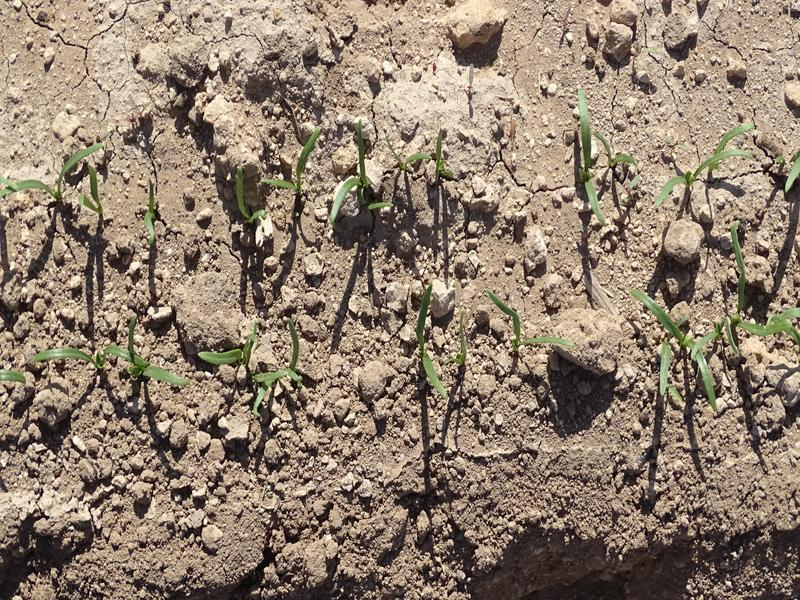Espinaca: (625, 286, 800, 406), (327, 125, 448, 223), (36, 321, 183, 391), (233, 130, 323, 220), (658, 127, 756, 207), (576, 93, 633, 229), (3, 142, 105, 209), (216, 330, 307, 399), (486, 292, 564, 353), (415, 288, 446, 399), (142, 179, 161, 243)
